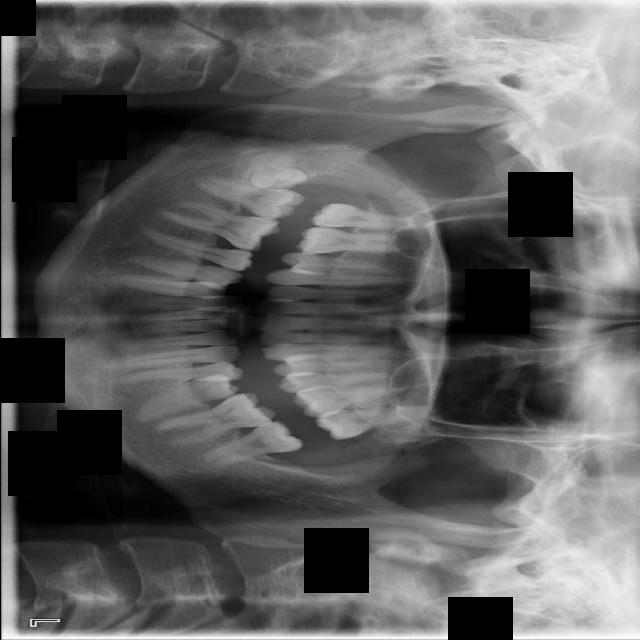73: (82, 571, 83, 586)
BioHorizons Implant: (314, 405, 437, 441)
Blue Sky Bio Implant: (197, 415, 303, 470)
Caries: (308, 201, 442, 234)
Implant: (190, 174, 307, 225)
Keystone Dental Implant: (236, 133, 310, 204)
